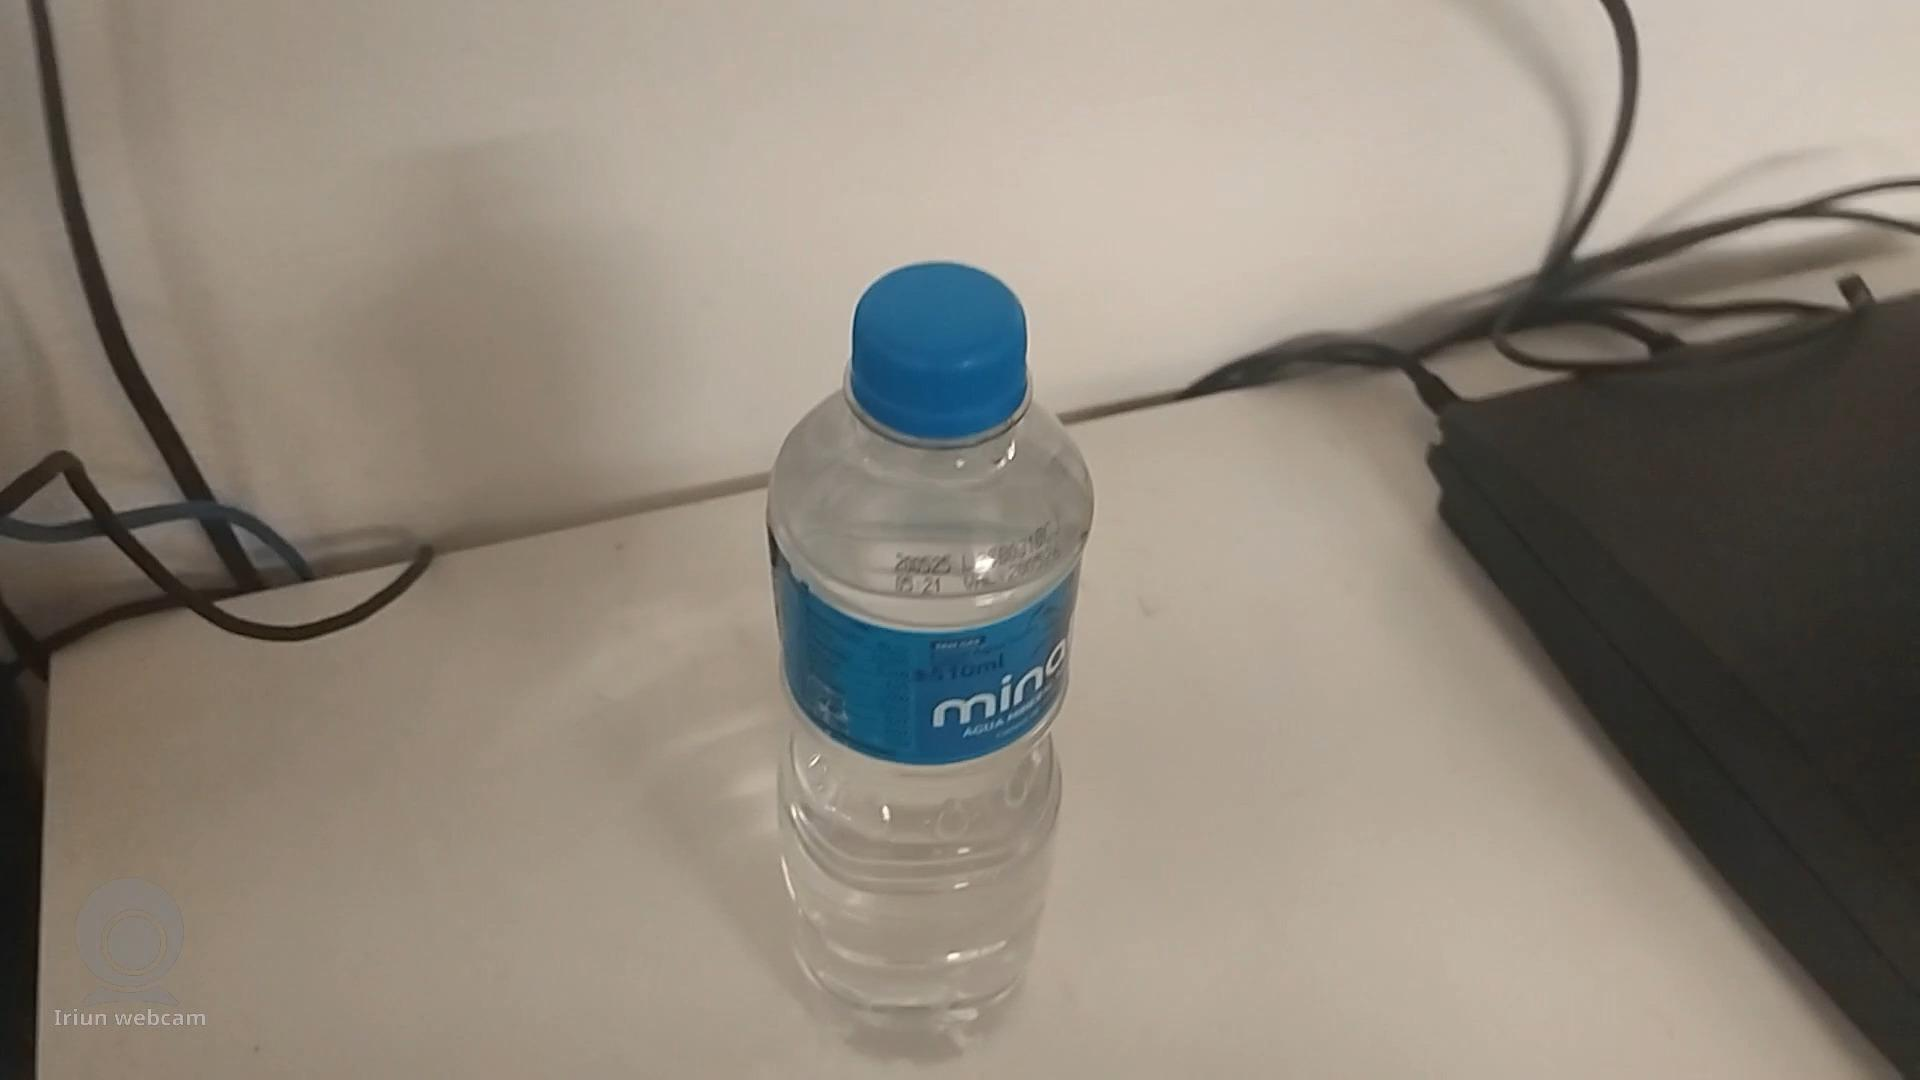agua: (766, 262, 1096, 1063)
